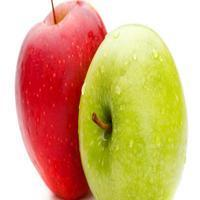apple: (78, 28, 189, 200), (15, 1, 109, 199)
